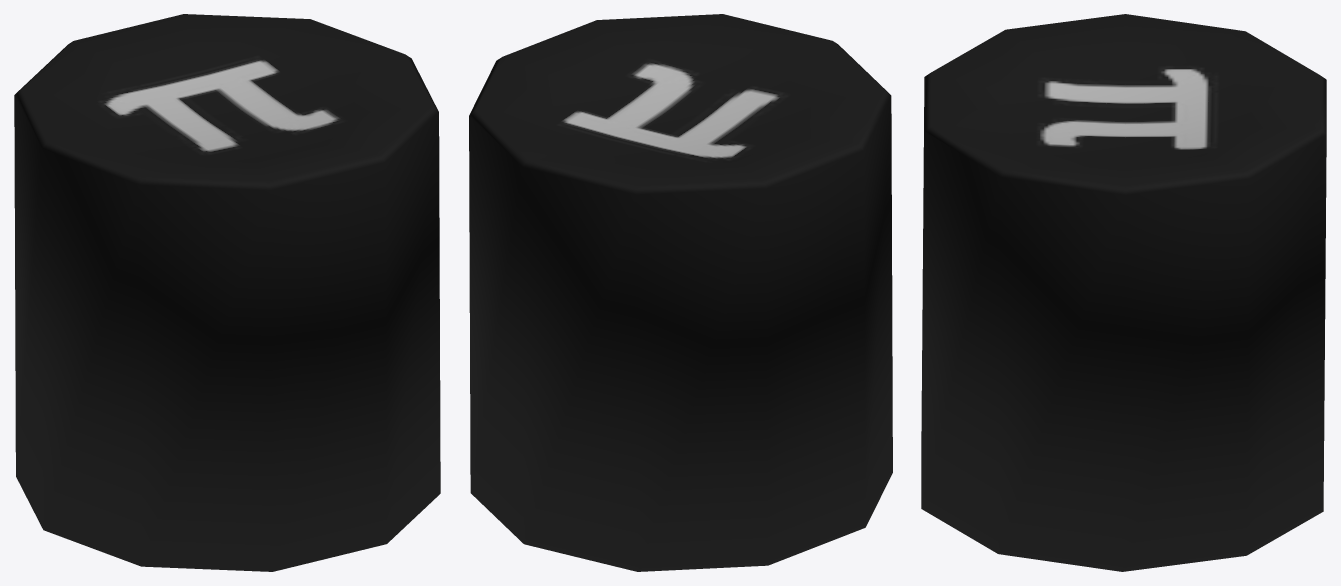
Rendered from crystal_controller_right_button6.obj.
3 renders of one model, left to right at view 1: azimuth 30°, elevation 25°; view 2: azimuth 150°, elevation 25°; view 3: azimuth 270°, elevation 25°, orthographic.
Parts seen in each view (by area): view 1: crystal_controller_right_button6; view 2: crystal_controller_right_button6; view 3: crystal_controller_right_button6.
Boxes of the visible parts, x1,y1,x2,y2 form: crystal_controller_right_button6: [14, 14, 440, 571]; crystal_controller_right_button6: [469, 14, 892, 571]; crystal_controller_right_button6: [921, 14, 1326, 571].
Bounding box in the file's own units: 0.00983 × 0.00987 × 0.00942.
1 material, 1 textured.
